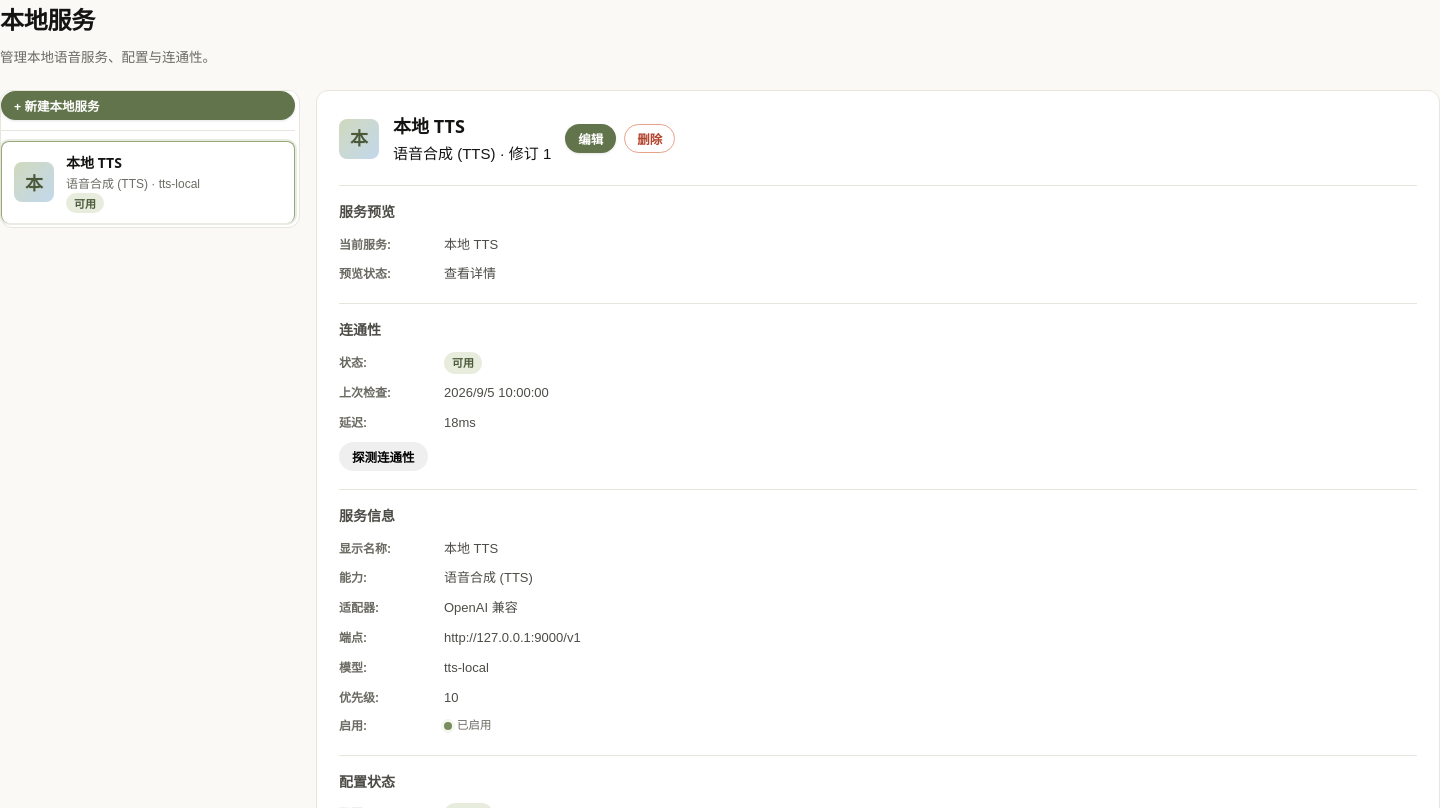
VoiceAlignmentPage › edits and saves the selected service
Click the button "编辑" at (591, 139), box [565,124,616,153]
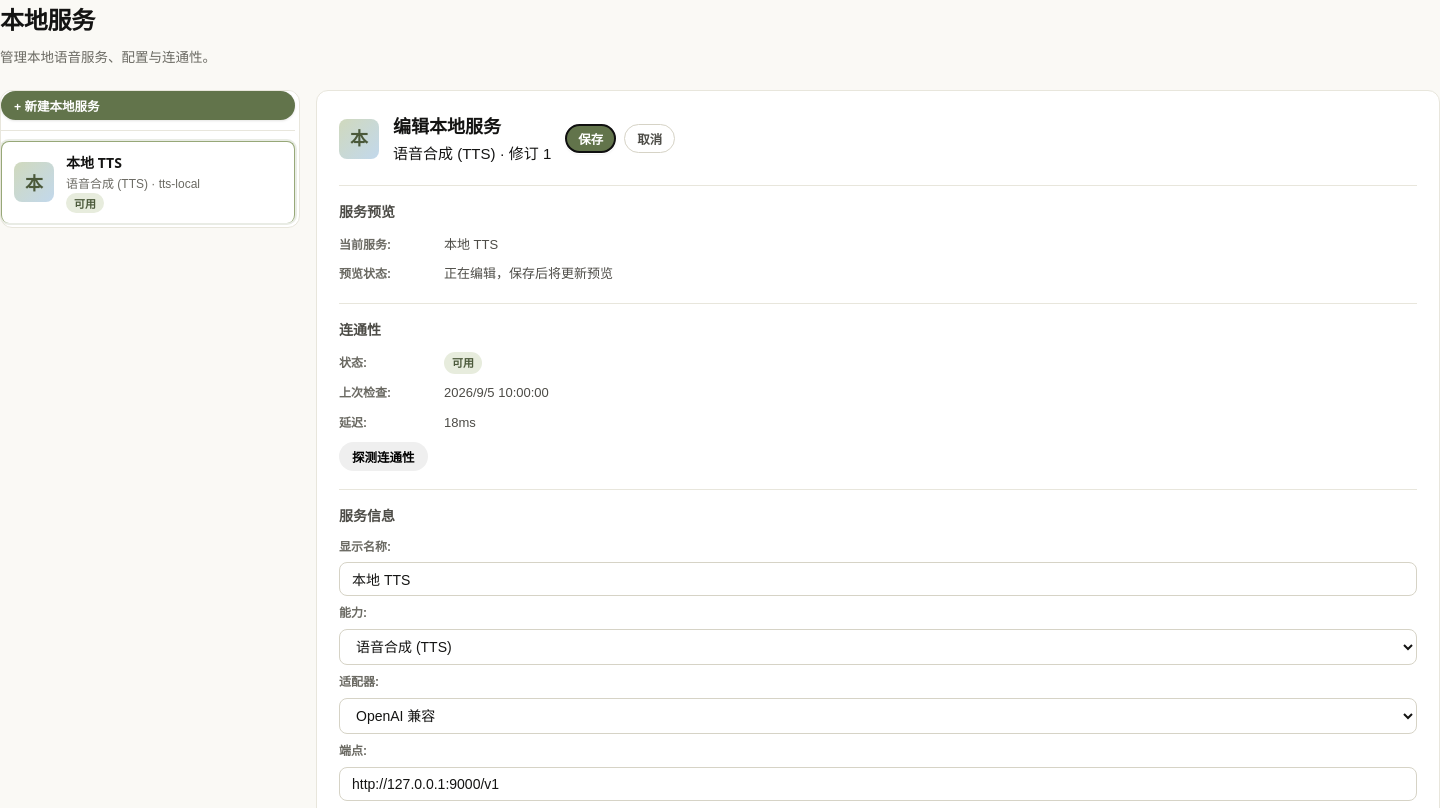
Result: the element "服务预览" shows "正在编辑" at [444,266,613,281]
Replace the text in the field named "显示名称" with "已更新 TTS" at (878, 579), box [339,562,1417,596]
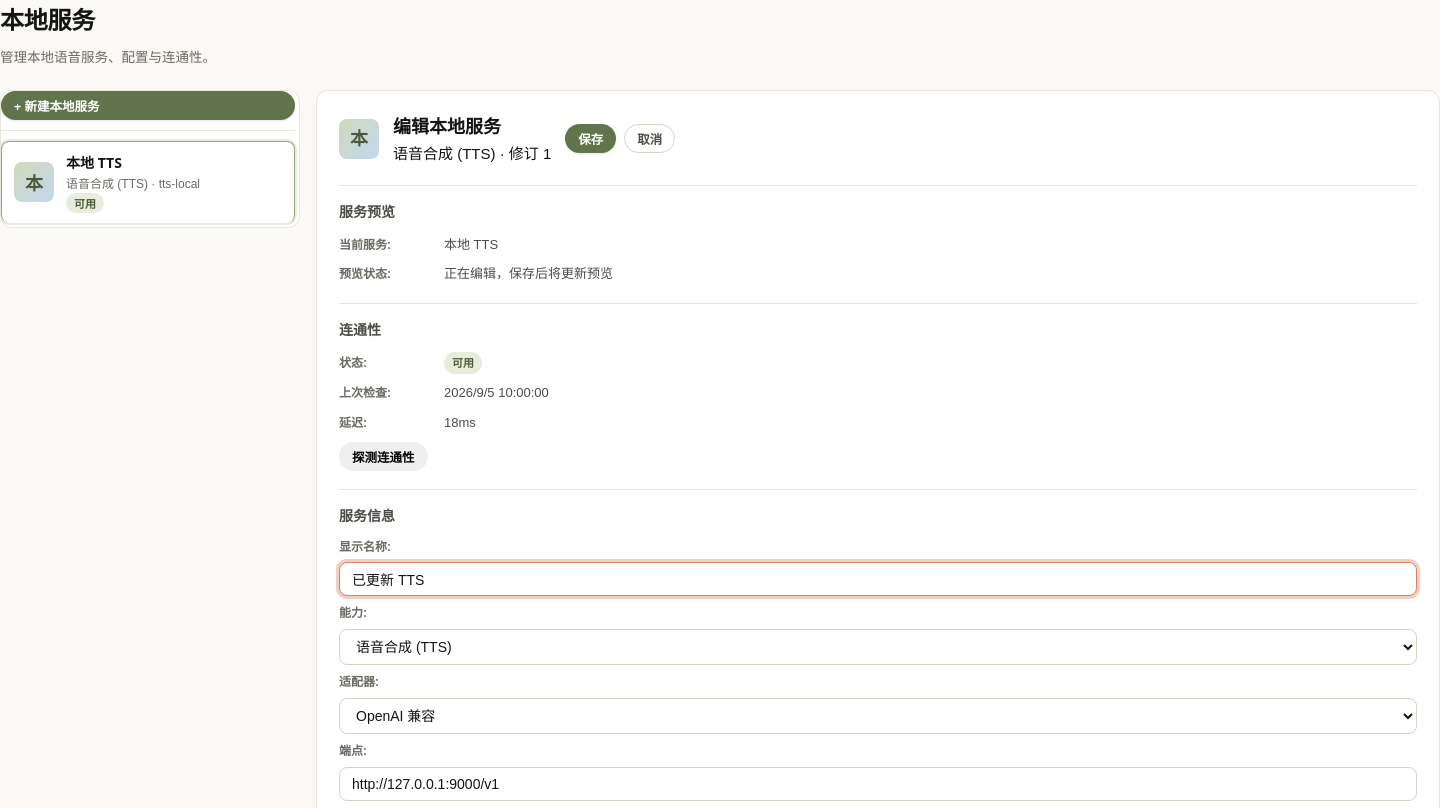
Click the button "保存" at (591, 139), box [565,124,616,153]
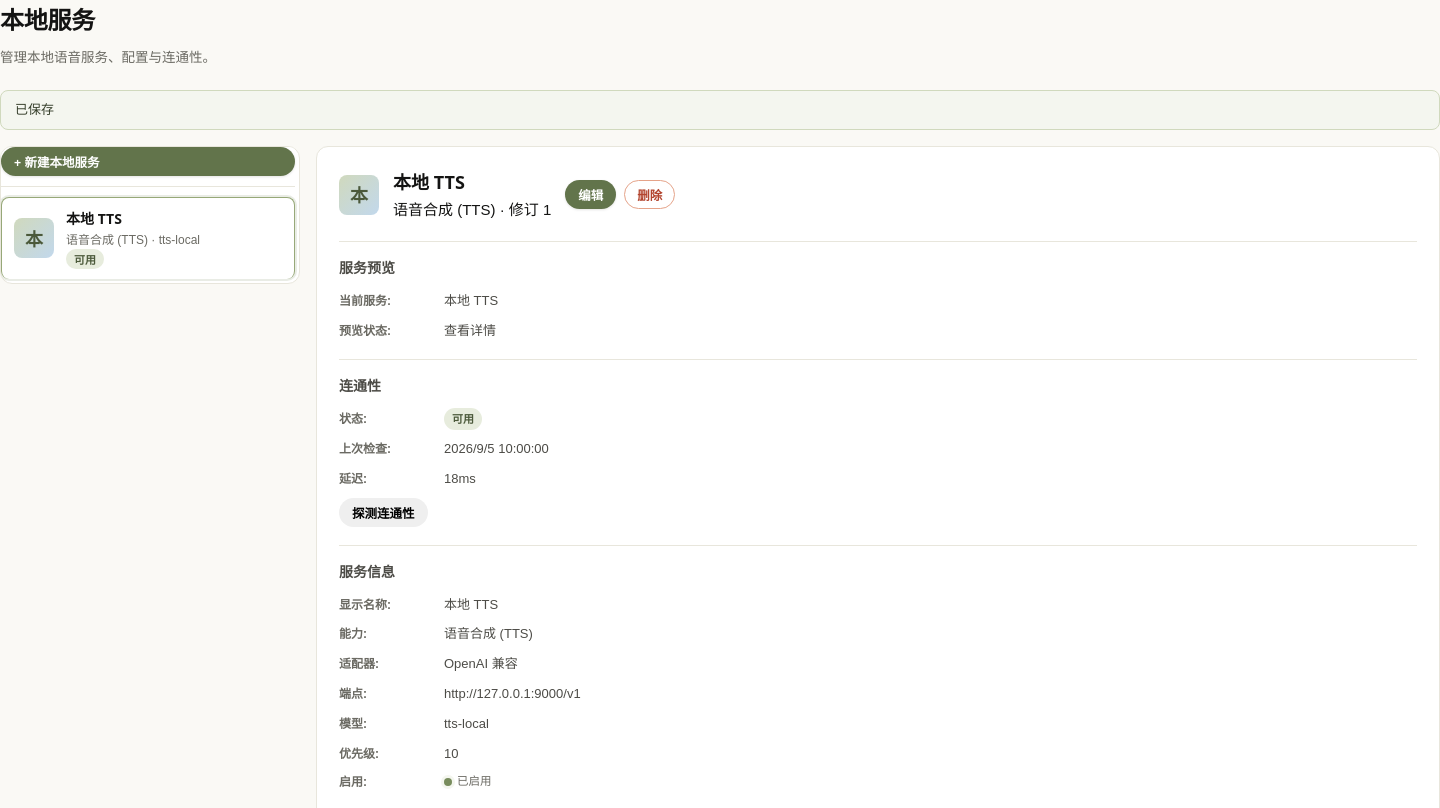
Result: the text "已保存" is shown at [0,90,1439,130]
